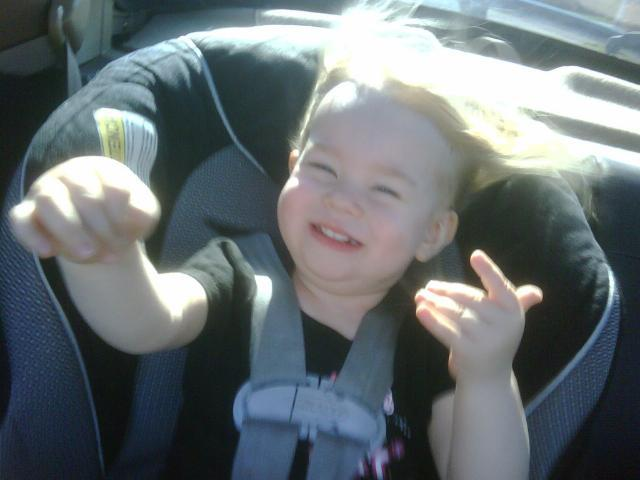Seatbelt: (225, 229, 412, 479), (66, 39, 82, 99)
